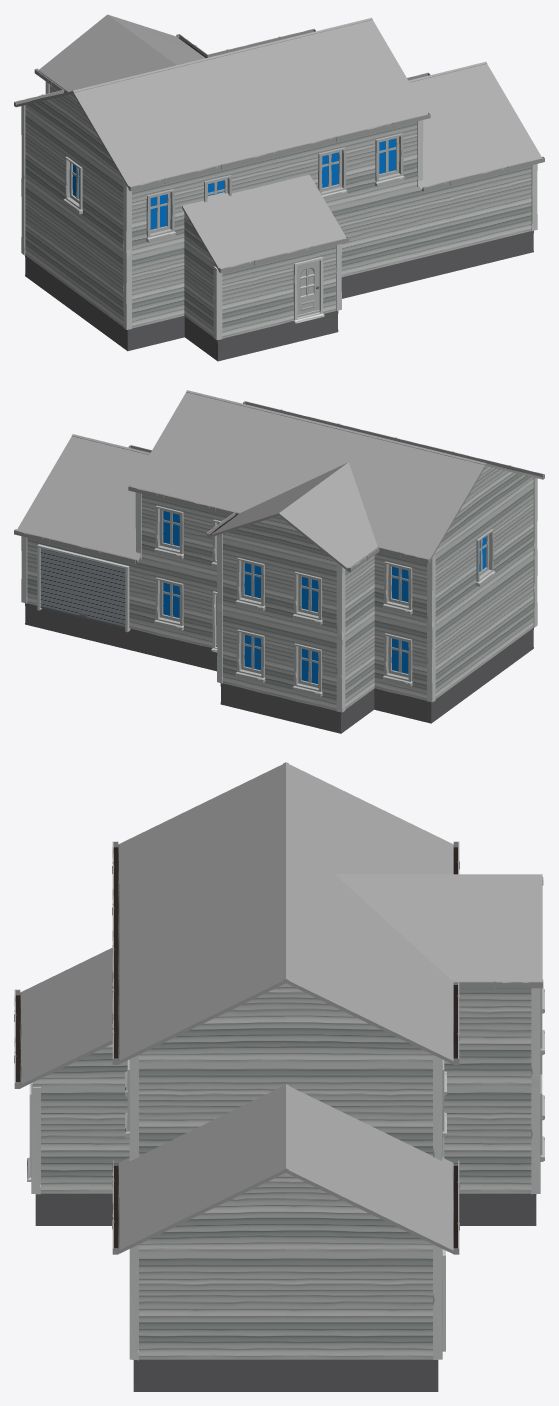
Rendered from SM_Bld_House_Preset_11.fbx.
3 views of the same model, one above another, from view 1: azimuth 30°, elevation 25°; view 2: azimuth 150°, elevation 25°; view 3: azimuth 270°, elevation 25° (orthographic). The views are drawn at different scales.
Visible parts, largest first — view 1: SM_Bld_House_Preset_11; view 2: SM_Bld_House_Preset_11; view 3: SM_Bld_House_Preset_11.
Part boxes in pixels (x1,y1,x2,y2): SM_Bld_House_Preset_11: [14, 14, 544, 361]; SM_Bld_House_Preset_11: [14, 390, 544, 733]; SM_Bld_House_Preset_11: [14, 762, 544, 1391].
Bounding box in the file's own units: 1816 × 936 × 1354.
